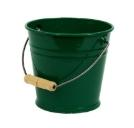BROUETTE: (0, 8, 119, 128)
